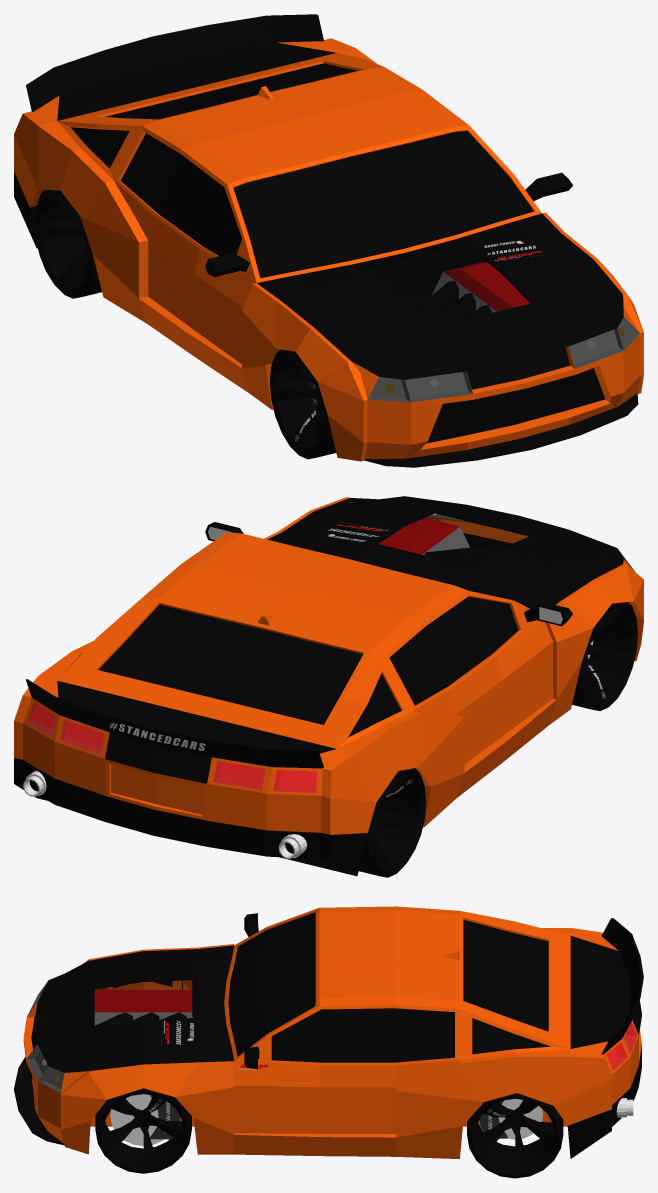
The model's file is car_textured.glb.
3 renders of one model, top to bottom at view 1: azimuth 30°, elevation 25°; view 2: azimuth 150°, elevation 25°; view 3: azimuth 270°, elevation 25°, orthographic. The views are drawn at different scales.
Parts seen in each view (by area): view 1: Muscle car 3.Body, e.Wheel.Bk.R, e.Wheel.Ft.R; view 2: Muscle car 3.Body, e.Wheel.Bk.R, e.Wheel.Ft.R; view 3: Muscle car 3.Body, e.Wheel.Bk.L, e.Wheel.Ft.L, e.WheelBrake.Ft.L.
Part boxes in pixels (<box>): Muscle car 3.Body: <box>14,14,643,467</box>; e.Wheel.Bk.R: <box>34,190,101,298</box>; e.Wheel.Ft.R: <box>269,349,336,459</box>; Muscle car 3.Body: <box>14,496,643,876</box>; e.Wheel.Bk.R: <box>359,768,426,877</box>; e.Wheel.Ft.R: <box>572,602,637,710</box>; Muscle car 3.Body: <box>14,906,643,1158</box>; e.Wheel.Bk.L: <box>467,1093,563,1178</box>; e.Wheel.Ft.L: <box>95,1088,191,1173</box>; e.WheelBrake.Ft.L: <box>150,1095,180,1139</box>.
Bounding box in the file's own units: 155 × 79.24 × 283.
Materials: 25 (4 with a texture image).
